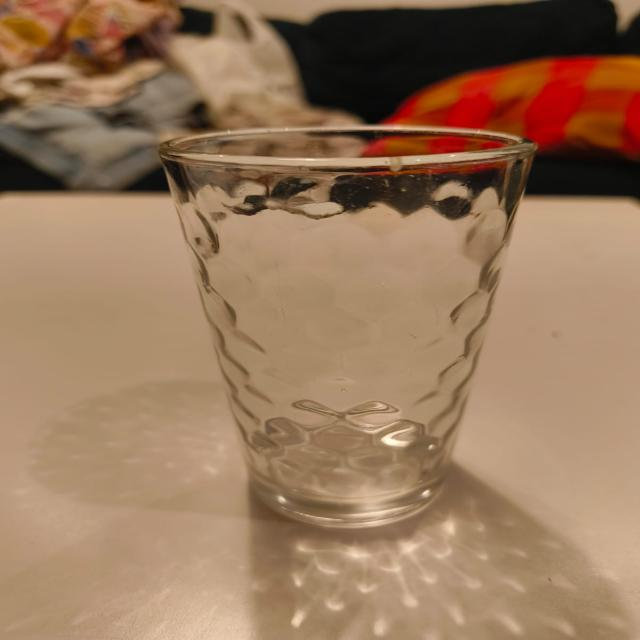ok g2: (155, 124, 539, 530)
